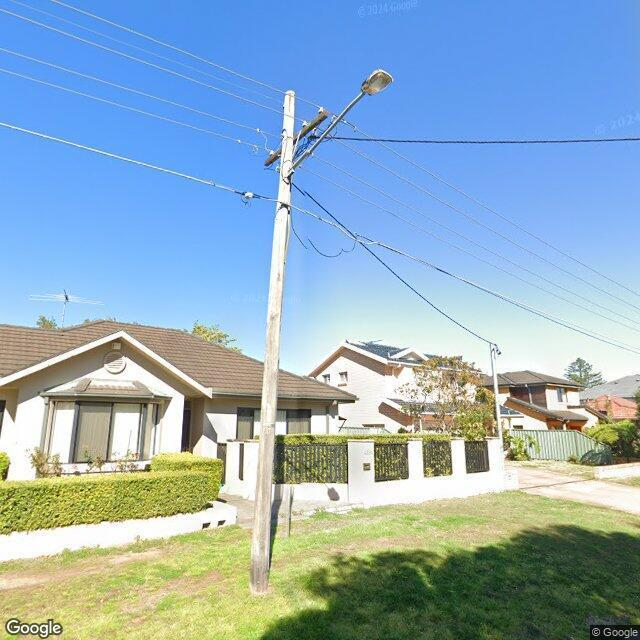crossarm: (264, 109, 330, 167)
steel-pole: (490, 342, 502, 438)
streetlight: (284, 68, 394, 179)
timber-pole: (249, 89, 296, 597)
